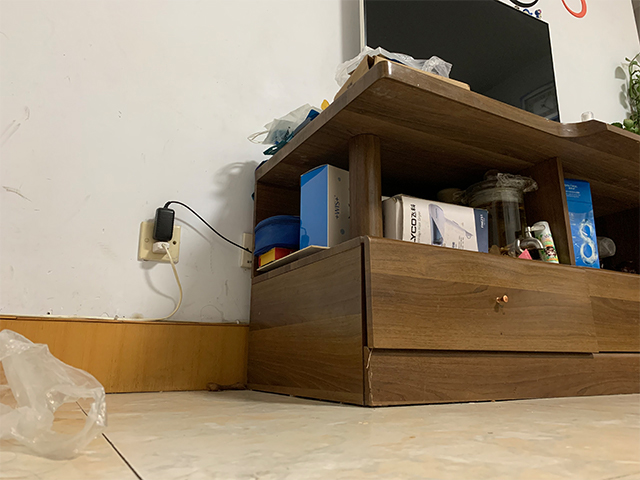cabinet: (243, 60, 639, 409)
wire: (137, 196, 248, 321)
